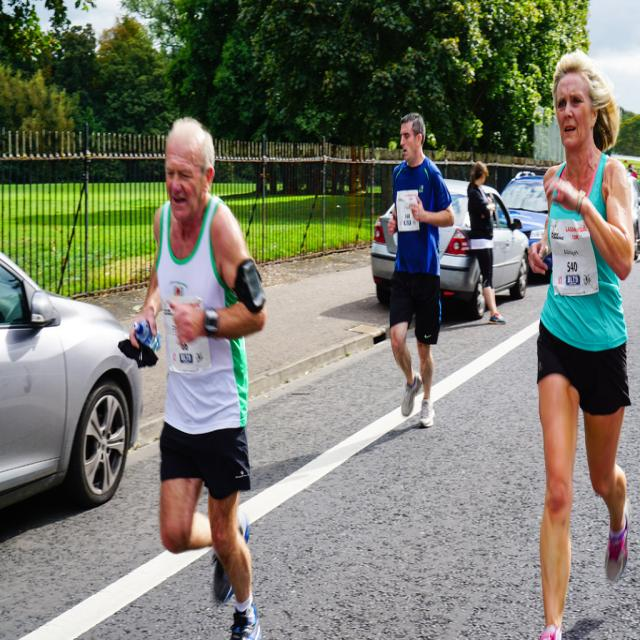car: (1, 253, 144, 523), (367, 176, 531, 298), (494, 178, 563, 288)
